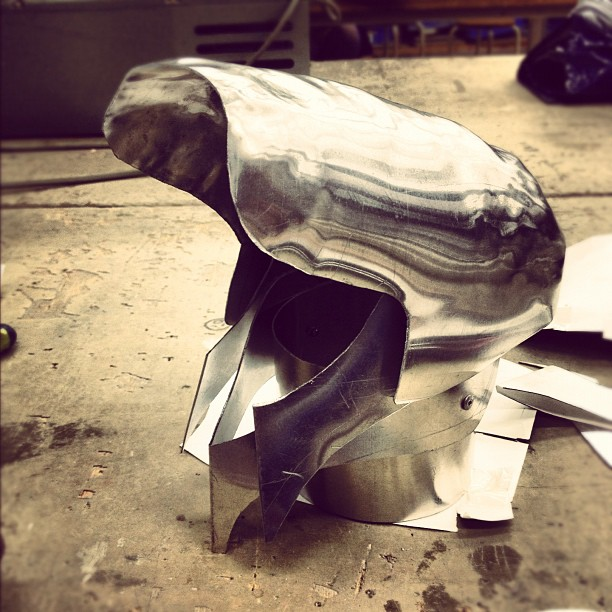trash: (89, 34, 608, 596)
